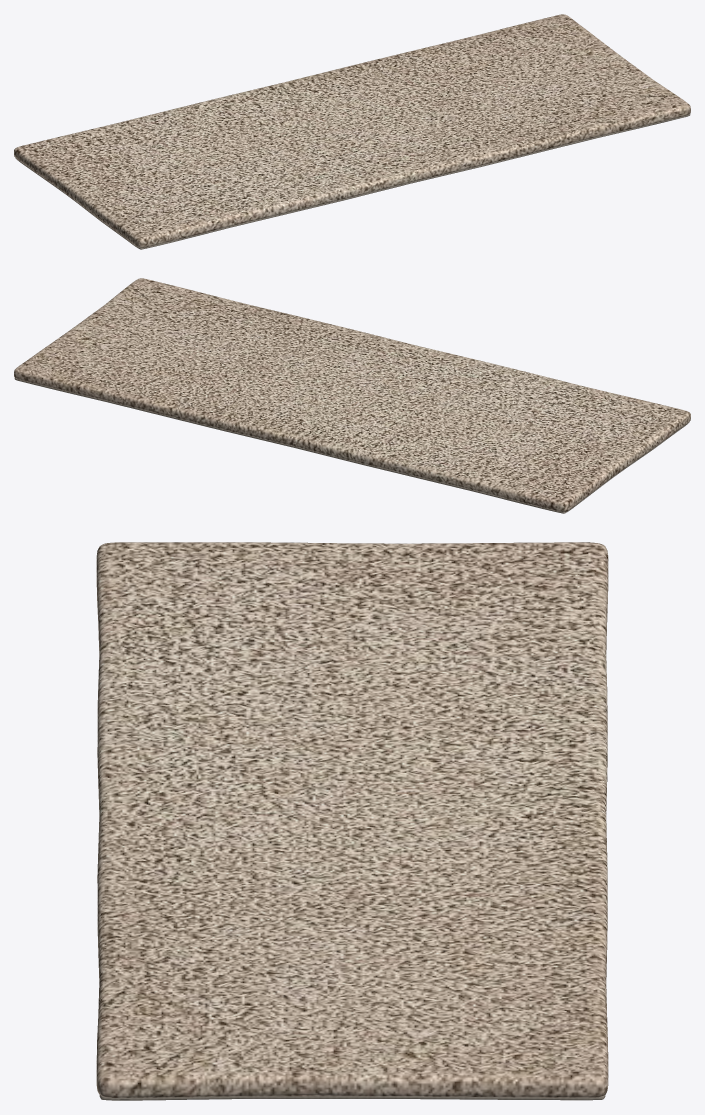
The picture shows the model from 3 angles, top to bottom: view 1: azimuth 30°, elevation 25°; view 2: azimuth 150°, elevation 25°; view 3: azimuth 270°, elevation 25°; orthographic projection. The views are drawn at different scales.
Visible parts, largest first — view 1: RootNode; view 2: RootNode; view 3: RootNode.
Boxes of the visible parts, box(x1,y1,x2,y2) form: RootNode: box(14, 14, 690, 249); RootNode: box(14, 278, 690, 513); RootNode: box(96, 542, 608, 1100).
Size of the model in its own units: 1.52 by 0.0303 by 0.6092.
1 material, 1 textured.
